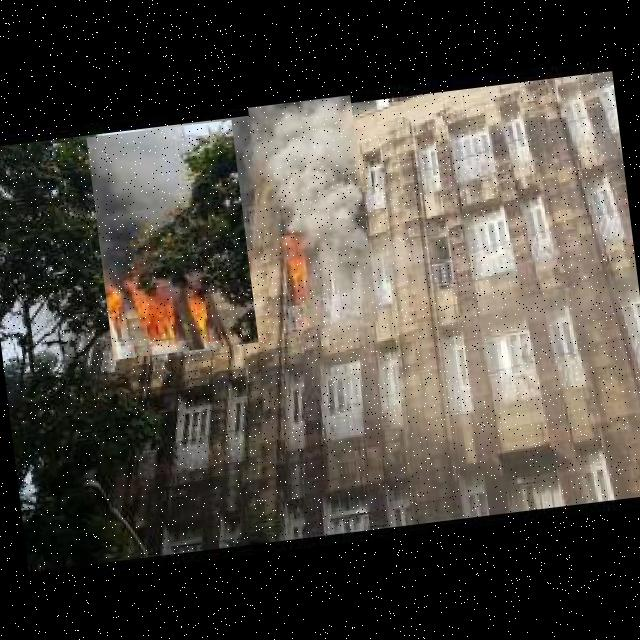fire: (86, 120, 258, 360), (248, 94, 378, 333)
